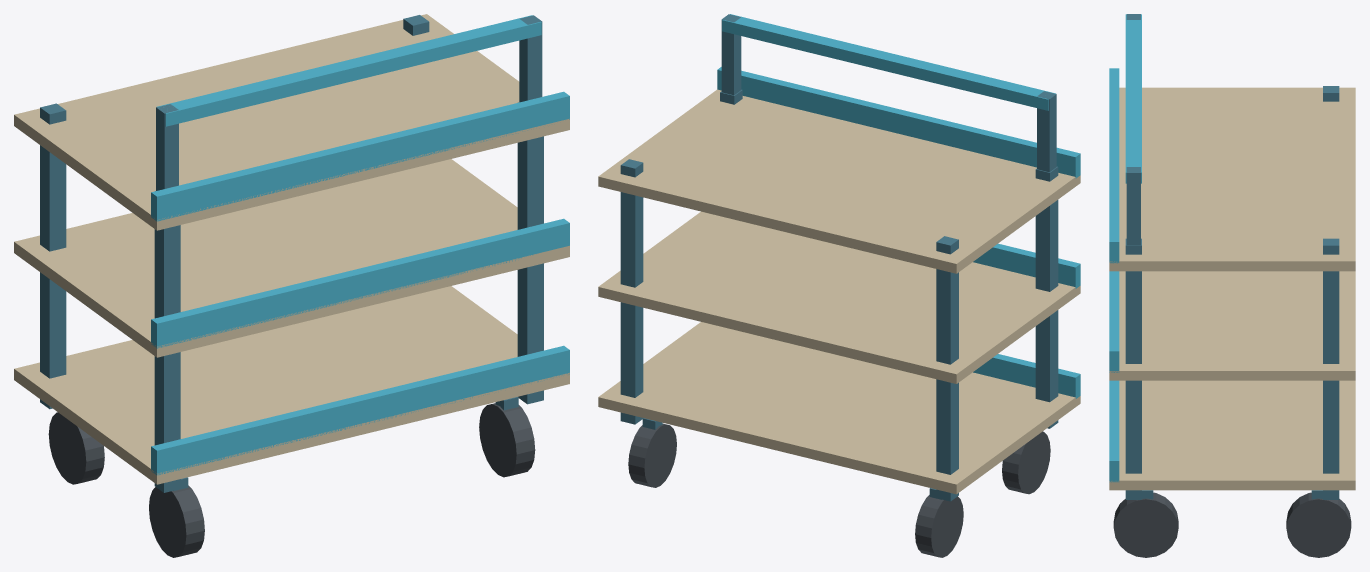
The model's file is concept-shelf-cart.glb.
3 renders of one model, left to right at view 1: azimuth 30°, elevation 25°; view 2: azimuth 150°, elevation 25°; view 3: azimuth 270°, elevation 25°, orthographic. The views are drawn at different scales.
Parts seen in each view (by area): view 1: Shelf_deck.002, Shelf_deck, Shelf_deck.001, Shelf_back_lip.002, Shelf_back_lip.001, Shelf_back_lip, Push_handle, Post.001, Post, Post.002, Wheel.002, Wheel (+3 smaller); view 2: Shelf_deck.002, Shelf_deck, Shelf_deck.001, Shelf_back_lip.002, Push_handle, Post.003, Post.001, Post, Wheel.003, Wheel.001, Wheel, Shelf_back_lip.001 (+3 smaller); view 3: Shelf_deck.002, Shelf_deck, Shelf_deck.001, Post.003, Post.002, Wheel.002, Wheel.003, Push_handle, Shelf_back_lip.002, Handle_post.001, Shelf_back_lip, Shelf_back_lip.001.
Part boxes in pixels (<box>): Shelf_deck.002: <box>14,14,569,230</box>; Shelf_deck: <box>14,286,569,484</box>; Shelf_deck.001: <box>14,159,569,357</box>; Shelf_back_lip.002: <box>151,91,569,221</box>; Shelf_back_lip.001: <box>151,218,569,348</box>; Shelf_back_lip: <box>151,345,569,475</box>; Push_handle: <box>157,15,541,126</box>; Post.001: <box>40,103,66,409</box>; Post: <box>154,191,180,492</box>; Post.002: <box>517,102,543,404</box>; Wheel.002: <box>479,403,535,477</box>; Wheel: <box>149,485,204,557</box>; Shelf_deck.002: <box>598,89,1080,273</box>; Shelf_deck: <box>598,322,1080,494</box>; Shelf_deck.001: <box>598,211,1080,383</box>; Shelf_back_lip.002: <box>717,67,1080,178</box>; Push_handle: <box>722,14,1055,110</box>; Post.003: <box>620,159,643,424</box>; Post.001: <box>936,236,958,501</box>; Post: <box>1035,166,1058,428</box>; Wheel.003: <box>628,423,676,487</box>; Wheel.001: <box>915,495,963,557</box>; Wheel: <box>1002,431,1050,494</box>; Shelf_back_lip.001: <box>973,243,1080,288</box>; Shelf_deck.002: <box>1109,87,1355,271</box>; Shelf_deck: <box>1109,380,1355,490</box>; Shelf_deck.001: <box>1109,271,1355,380</box>; Post.003: <box>1323,238,1339,499</box>; Post.002: <box>1125,238,1141,499</box>; Wheel.002: <box>1113,492,1178,557</box>; Wheel.003: <box>1286,492,1351,557</box>; Push_handle: <box>1125,14,1141,183</box>; Shelf_back_lip.002: <box>1109,68,1119,263</box>; Handle_post.001: <box>1126,167,1140,245</box>; Shelf_back_lip: <box>1109,380,1119,482</box>; Shelf_back_lip.001: <box>1109,271,1119,372</box>.
Bounding box in the file's own units: 1 × 1.05 × 0.6.
